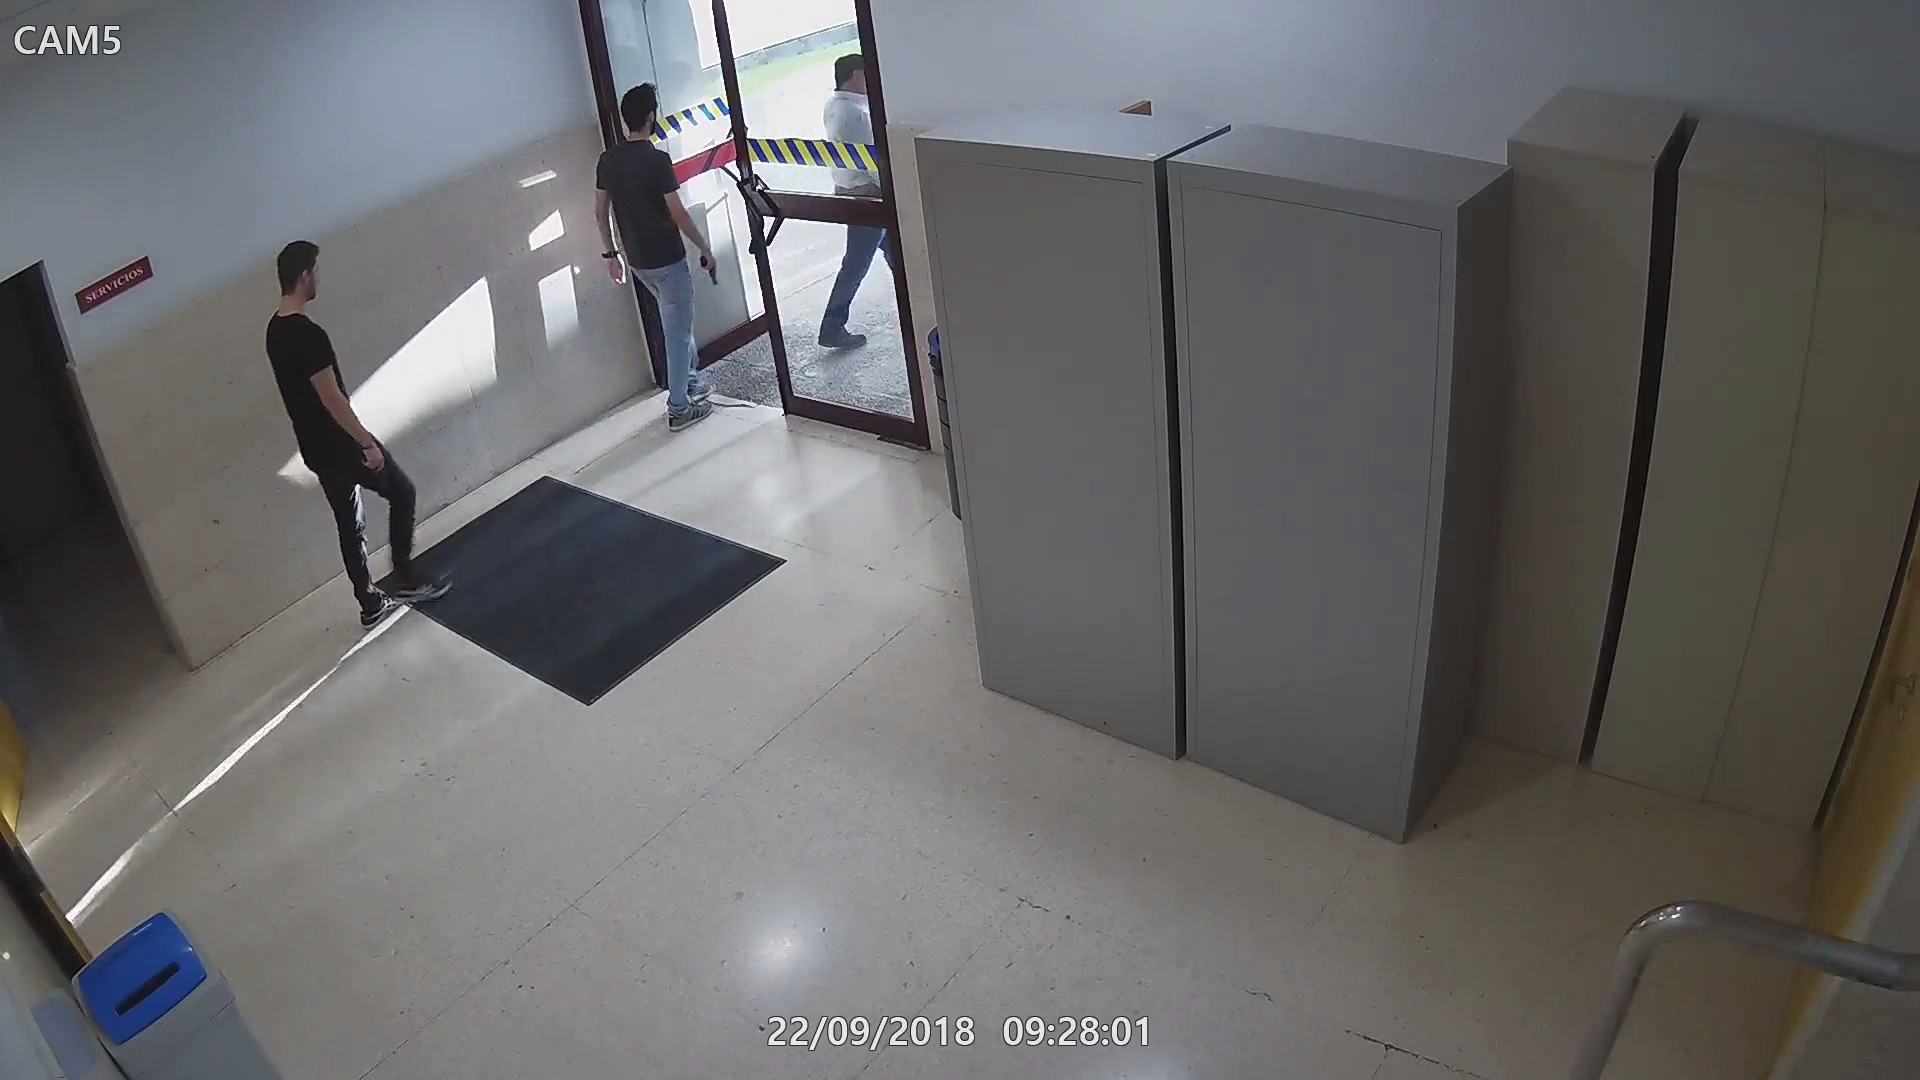Handgun: (357, 444, 396, 491), (695, 248, 721, 290)
